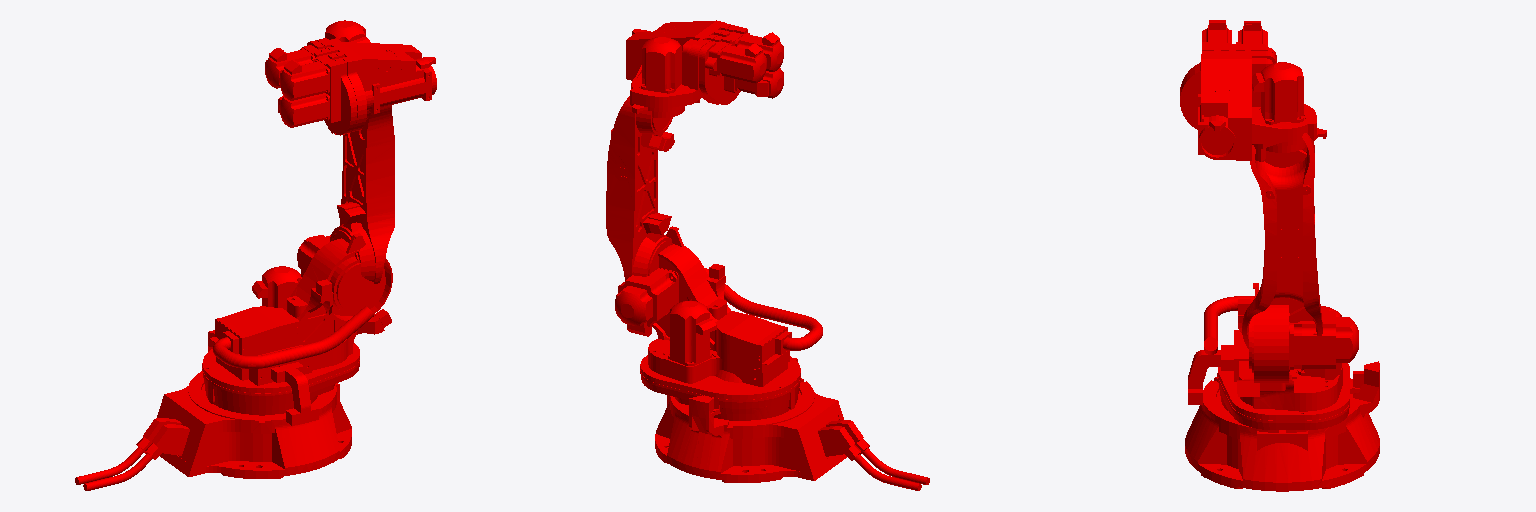
robot.urdf — NM45-2dof_Meshgz:
<?xml version="1.0" ?>
<!-- =================================================================================== -->
<!-- |    This document was autogenerated by xacro from NM45-2dof_meshgz.xacro         | -->
<!-- |    EDITING THIS FILE BY HAND IS NOT RECOMMENDED                                 | -->
<!-- =================================================================================== -->
<robot name="NM45-2dof_Meshgz" xmlns:xacro="http://ros.org/wiki/xacro">
  <link name="world"/>
  <link name="base_link">
    <visual>
      <geometry>
        <mesh filename="package://comau_nm45_description/meshes/visual/NM-45_Base.STL"/>
      </geometry>
      <material name="red">
        <color rgba="1 0 0 1"/>
      </material>
    </visual>
    <collision>
      <geometry>
        <mesh filename="package://comau_nm45_description/meshes/collision/NM-45_Base_CH.STL"/>
      </geometry>
      <material name="yellow">
        <color rgba="0 1 1 1"/>
      </material>
    </collision>
    <inertial>
      <origin rpy="0 0 0" xyz="-0.039 0 0.137"/>
      <mass value="687.65815"/>
      <inertia ixx="21.60311" ixy="-0.78936" ixz="-0.25255" iyy="45.97675" iyz="0.34612" izz="31.75235"/>
    </inertial>
  </link>
  <link name="link1">
    <visual>
      <origin rpy="0 0 0" xyz="0 0 0"/>
      <geometry>
        <mesh filename="package://comau_nm45_description/meshes/visual/NM-45_Link1.STL"/>
      </geometry>
      <material name="red">
        <color rgba="1 0 0 1"/>
      </material>
    </visual>
    <collision>
      <origin rpy="0 0 0" xyz="0 0 0"/>
      <geometry>
        <mesh filename="package://comau_nm45_description/meshes/collision/NM-45_Link1_CH.STL"/>
      </geometry>
      <material name="yellow"/>
    </collision>
    <inertial>
      <origin rpy="0 0 0" xyz="0.15159 0 0.31076"/>
      <mass value="704.18892"/>
      <inertia ixx="27.07108" ixy="-12.09446" ixz="-2.64292" iyy="37.379510" iyz="1.06182" izz="42.98623"/>
    </inertial>
  </link>
  <link name="link2">
    <visual>
      <origin rpy="0 0 0" xyz="0 0 0"/>
      <geometry>
        <mesh filename="package://comau_nm45_description/meshes/visual/NM-45_Link2.STL"/>
      </geometry>
      <material name="red"/>
    </visual>
    <collision>
      <origin rpy="0 0 0" xyz="0 0 0"/>
      <geometry>
        <mesh filename="package://comau_nm45_description/meshes/collision/NM-45_Link2_CH.STL"/>
      </geometry>
      <material name="yellow"/>
    </collision>
    <inertial>
      <origin rpy="0 0 0" xyz="0.3626 0.01795 -0.21355"/>
      <mass value="1"/>
      <inertia ixx="1.0" ixy="0.0" ixz="0.0" iyy="1.0" iyz="0.0" izz="1.0"/>
    </inertial>
  </link>
  <link name="link3">
    <visual>
      <origin rpy="0 0 0" xyz="0 0 0"/>
      <geometry>
        <mesh filename="package://comau_nm45_description/meshes/visual/NM-45_Link3.STL"/>
      </geometry>
      <material name="red"/>
    </visual>
    <collision>
      <origin rpy="0 0 0" xyz="0 0 0"/>
      <geometry>
        <mesh filename="package://comau_nm45_description/meshes/collision/NM-45_Link3_CH.STL"/>
      </geometry>
      <material name="yellow"/>
    </collision>
    <inertial>
      <origin rpy="0 0 0" xyz="0 0 1"/>
      <mass value="1"/>
      <inertia ixx="1.0" ixy="0.0" ixz="0.0" iyy="1.0" iyz="0.0" izz="1.0"/>
    </inertial>
  </link>
  <joint name="fixed" type="fixed">
    <parent link="world"/>
    <child link="base_link"/>
  </joint>
  <joint name="joint1" type="revolute">
    <parent link="base_link"/>
    <child link="link1"/>
    <origin rpy="0 0 0" xyz="0 0 0.22005"/>
    <axis xyz="0 0 -1"/>
    <limit effort="100" lower="-3.1416" upper="3.1416" velocity="2.26"/>
  </joint>
  <joint name="joint2" type="revolute">
    <parent link="link1"/>
    <child link="link2"/>
    <origin rpy="1.5708 -1.5708 0" xyz="0.4 0.0 0.530"/>
    <axis xyz="0 0 -1"/>
    <limit effort="100" lower="-0.733" upper="2.269" velocity="2.26"/>
  </joint>
  <joint name="joint3" type="revolute">
    <parent link="link2"/>
    <child link="link3"/>
    <origin rpy="0 0 -1.5708" xyz="0.75 0.0 0"/>
    <axis xyz="0 0 1"/>
    <limit effort="100" lower="-2.967" upper="1.92" velocity="2.96"/>
  </joint>
</robot>

--- Render facts (derived) ---
Views: 3 orthographic renders of the robot side by side, from view 1: azimuth 30°, elevation 25°; view 2: azimuth 150°, elevation 25°; view 3: azimuth 270°, elevation 25°.
Model NM45-2dof_Meshgz with 5 links and 4 joints (3 revolute, 1 fixed), rooted at world, posed every joint at zero.
Links seen in each view (by area): view 1: link1, base_link, link3, link2; view 2: link1, base_link, link3, link2; view 3: link1, link3, base_link, link2.
Boxes of the visible links, x1,y1,x2,y2 form: link1: (202,233,392,425); base_link: (75,330,351,490); link3: (265,20,436,134); link2: (326,105,394,283); link1: (615,226,822,420); base_link: (655,378,929,490); link3: (626,20,783,117); link2: (606,96,674,280); link1: (1188,283,1360,429); link3: (1180,20,1326,161); base_link: (1185,361,1379,491); link2: (1242,122,1322,348).
Size in the robot's own frame: 1.57 by 0.769 by 1.84 metres.
4 mesh visuals loaded from 4 distinct referenced files (4 binary STL).